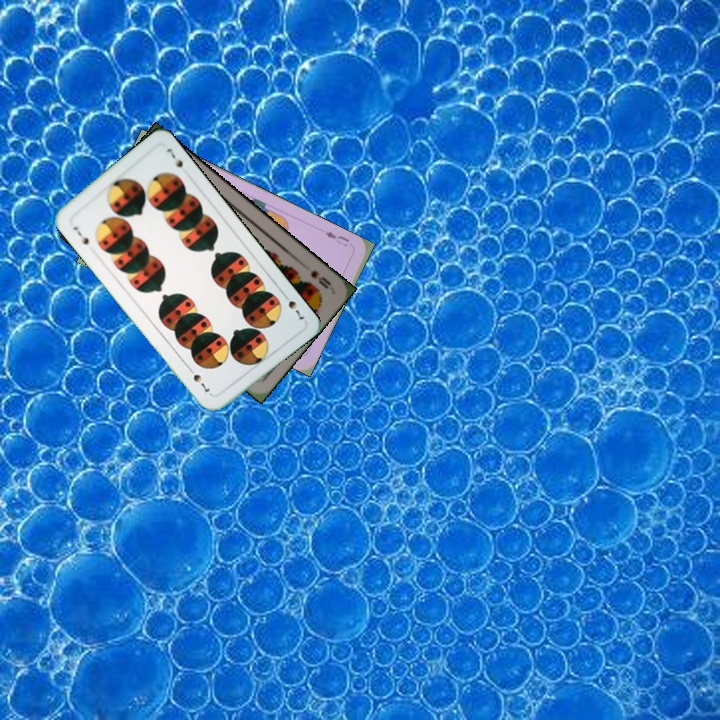EU: (321, 227, 352, 249)
S7: (279, 289, 307, 322), (69, 222, 92, 247)
S8: (306, 266, 334, 292)
